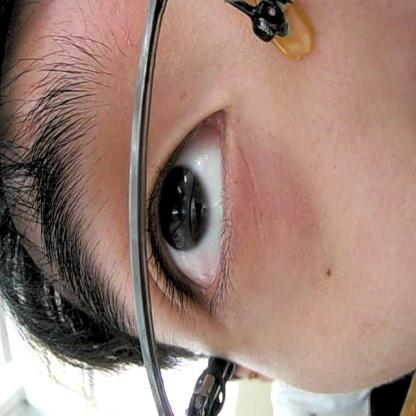Up: (148, 103, 245, 326)
